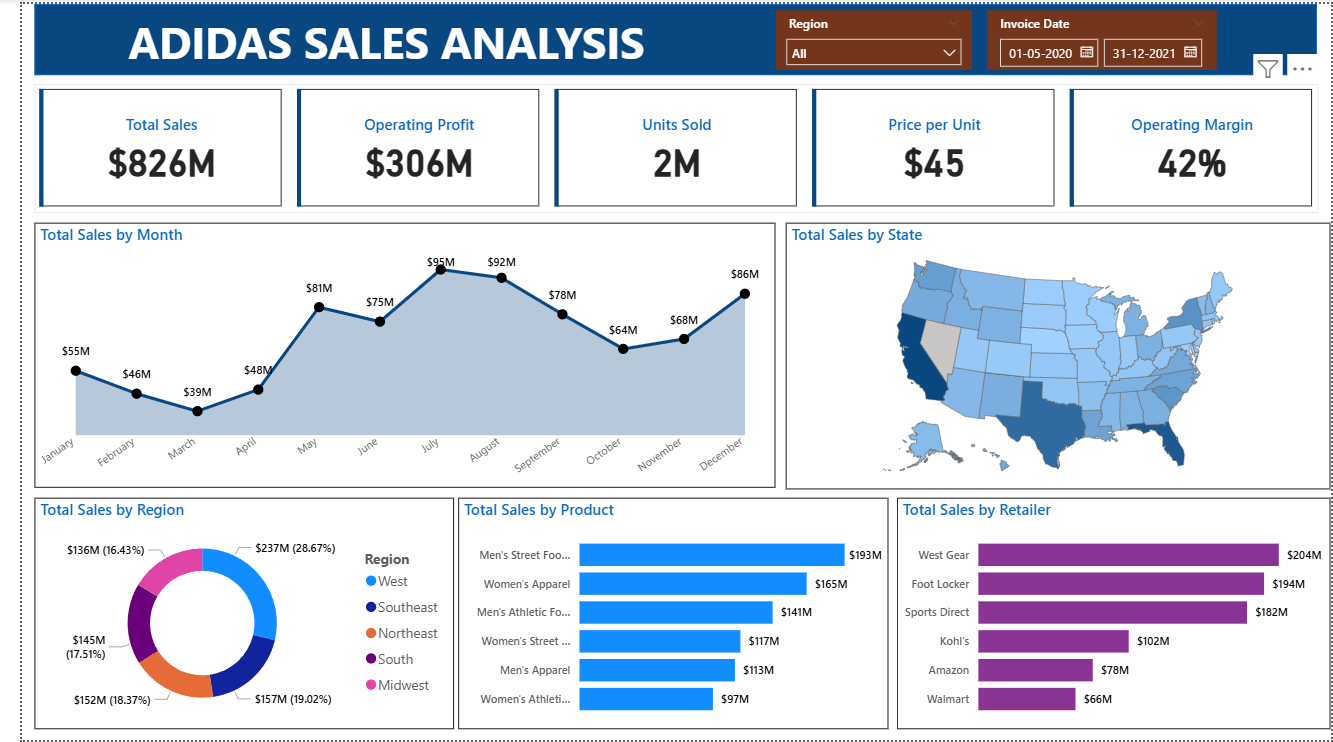

Layout of this report page (visuals, bound fields, positions):
{"tool":"powerbi","page":{"name":"Page 1","canvas":[1280,720],"ordinal":0},"visuals":[{"type":"shape","box":[12.2,0,1254.6,69.7],"z":0},{"type":"textbox","box":[99,2.4,540.5,67.3],"z":1000},{"type":"cardVisual","fields":{"Data":["Sum(Data Sales Adidas.Total Sales)","Sum(Data Sales Adidas.Operating Profit)","Sum(Data Sales Adidas.Units Sold)","Avg(Data Sales Adidas.Price per Unit)","Avg(Data Sales Adidas.Operating Margin)"]},"box":[12.2,78.3,1255.8,126],"z":2000},{"type":"areaChart","title":"Total Sales by Month","fields":{"Category":["Data Sales Adidas.Invoice Date.Variation.Date Hierarchy.Month"],"Y":["Sum(Data Sales Adidas.Total Sales)"]},"box":[12.2,214,725.1,259.2],"z":3000},{"type":"shapeMap","title":"Total Sales by State","fields":{"Category":["Data Sales Adidas.State"],"Value":["Sum(Data Sales Adidas.Total Sales)"]},"box":[747.2,214,533.2,260.5],"z":3001},{"type":"donutChart","title":"Total Sales by Region","fields":{"Category":["Data Sales Adidas.Region"],"Y":["Sum(Data Sales Adidas.Total Sales)"]},"box":[12.2,483,410,226],"z":3002},{"type":"barChart","title":"Total Sales by Product","fields":{"Category":["Data Sales Adidas.Product"],"Y":["Sum(Data Sales Adidas.Total Sales)"]},"box":[426.8,483,420.7,226.2],"z":3003},{"type":"barChart","title":"Total Sales by Retailer","fields":{"Category":["Data Sales Adidas.Retailer"],"Y":["Sum(Data Sales Adidas.Total Sales)"]},"box":[856,483,424.3,226.2],"z":3004},{"type":"slicer","fields":{"Values":["Data Sales Adidas.Region"]},"box":[737.4,6.1,192,58.7],"z":3005},{"type":"slicer","fields":{"Values":["Data Sales Adidas.Invoice Date"]},"box":[944,6.1,225,58.7],"z":3006}]}

Visuals, with their boxes in screenshot pixels (x1, y1, x2, y2), scaled from the page's 1280x720 canvas onto the 1333x742 screenshot:
shape: BBox(13, 0, 1319, 72)
textbox: BBox(103, 2, 666, 72)
cardVisual - Sum(Data Sales Adidas.Total Sales) x Sum(Data Sales Adidas.Operating Profit): BBox(13, 81, 1321, 211)
"Total Sales by Month" areaChart: BBox(13, 221, 768, 488)
"Total Sales by State" shapeMap: BBox(778, 221, 1332, 489)
"Total Sales by Region" donutChart: BBox(13, 498, 440, 731)
"Total Sales by Product" barChart: BBox(444, 498, 883, 731)
"Total Sales by Retailer" barChart: BBox(891, 498, 1332, 731)
slicer - Data Sales Adidas.Region: BBox(768, 6, 968, 67)
slicer - Data Sales Adidas.Invoice Date: BBox(983, 6, 1217, 67)
